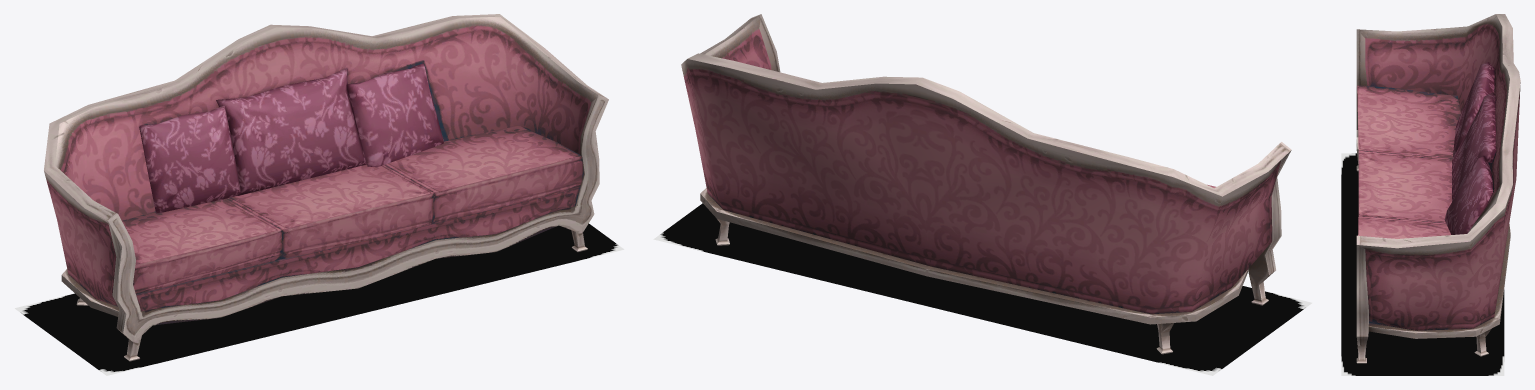
Rendered from jj_ty_shafa02.FBX.
The picture shows the model from 3 angles, left to right: view 1: azimuth 30°, elevation 25°; view 2: azimuth 150°, elevation 25°; view 3: azimuth 270°, elevation 25°; orthographic projection. The views are drawn at different scales.
Parts seen in each view (by area): view 1: jj_ty_shafa02, shadow; view 2: jj_ty_shafa02, shadow; view 3: jj_ty_shafa02, shadow.
Part boxes in pixels (x1,y1,x2,y2): jj_ty_shafa02: (44, 14, 608, 361); shadow: (15, 223, 624, 375); jj_ty_shafa02: (681, 14, 1291, 354); shadow: (653, 203, 1311, 375); jj_ty_shafa02: (1356, 14, 1520, 363); shadow: (1341, 153, 1504, 375).
Bounding box in the file's own units: 263 × 106 × 89.68.
